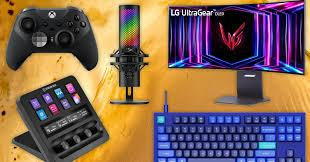keyboard: (152, 111, 306, 161)
